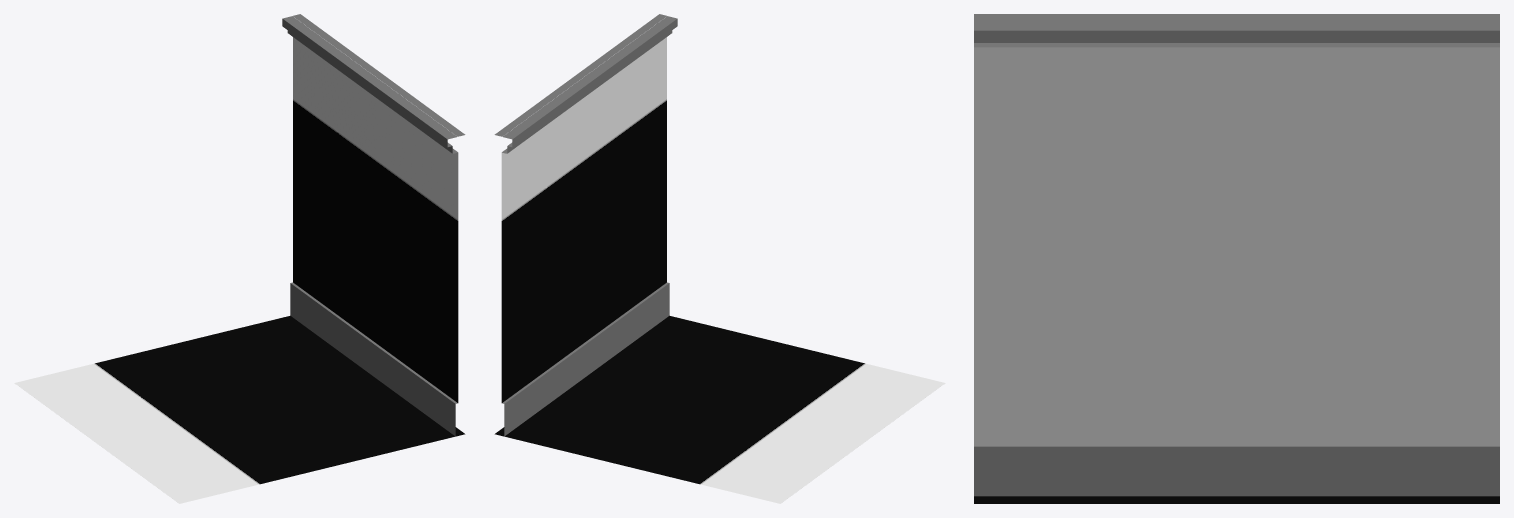
File: S_WallBasicA.fbx
3 renders of one model, left to right at view 1: azimuth 30°, elevation 25°; view 2: azimuth 150°, elevation 25°; view 3: azimuth 270°, elevation 25°, orthographic. The views are drawn at different scales.
Visible parts, largest first — view 1: S_WallBasicA; view 2: S_WallBasicA; view 3: S_WallBasicA.
Part boxes in pixels (bbox=[...]): S_WallBasicA: bbox=[14, 14, 465, 503]; S_WallBasicA: bbox=[494, 14, 945, 503]; S_WallBasicA: bbox=[974, 14, 1499, 503].
Size of the model in its own units: 78.74 by 78.78 by 78.74.
